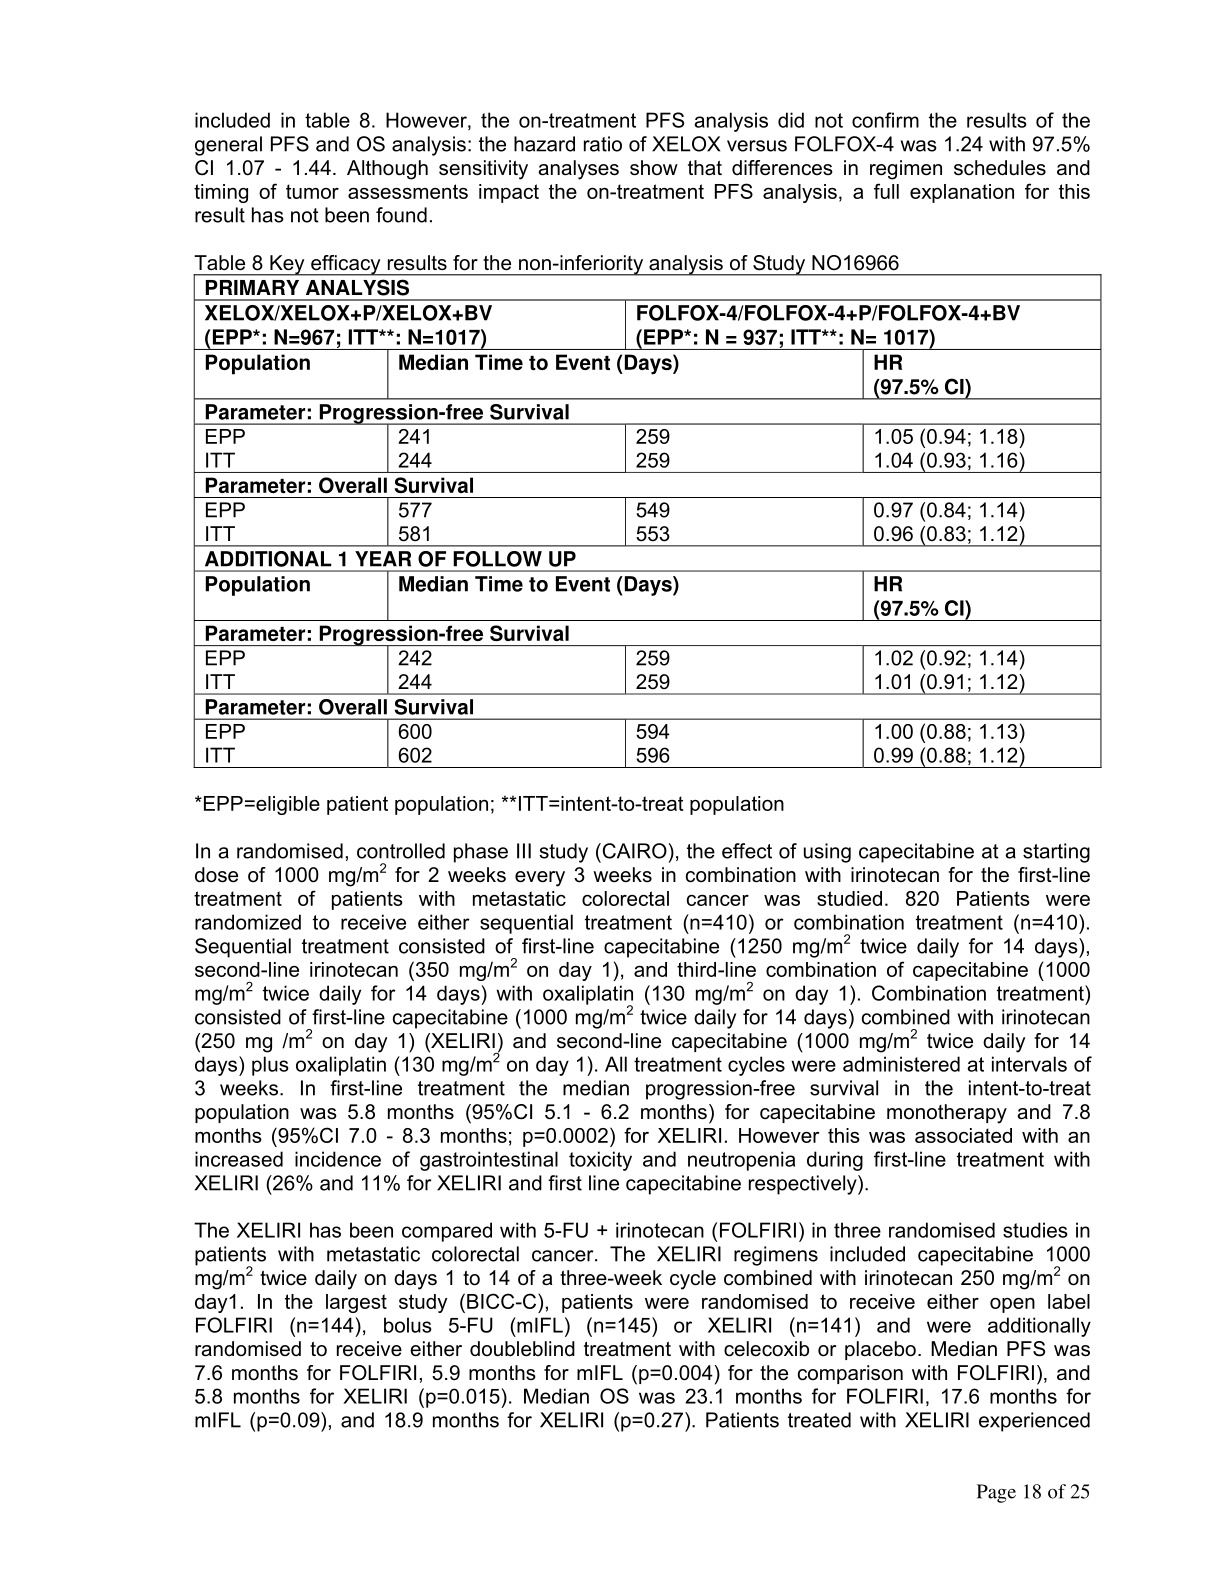merged_cells: (192, 274, 1102, 769)
